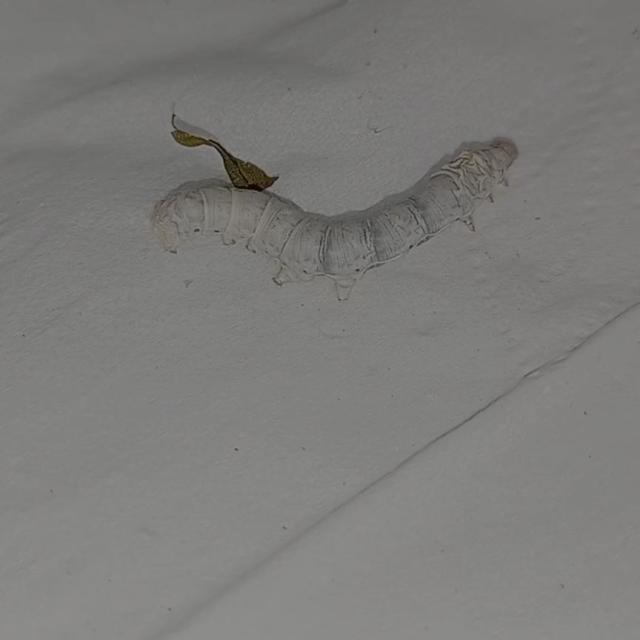Healthy: (142, 126, 522, 295)
